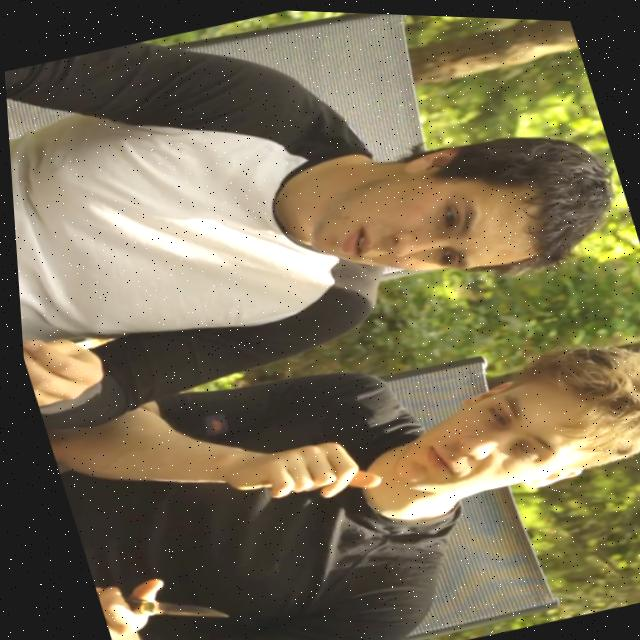knife: (121, 566, 233, 640)
